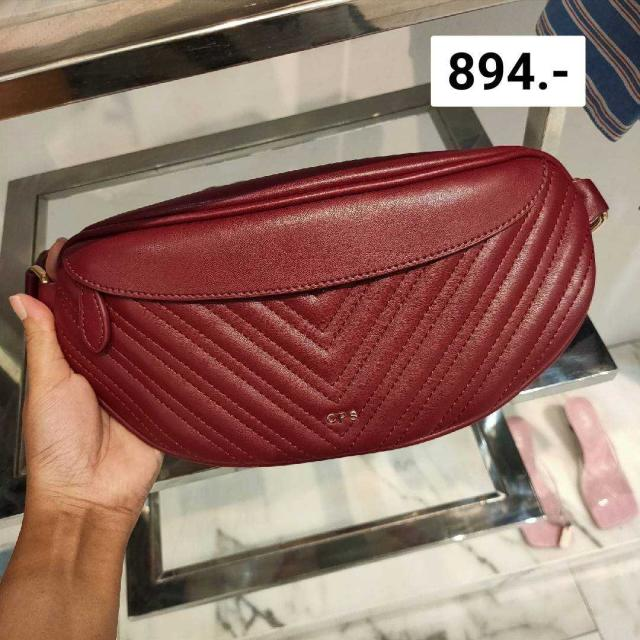bag: (0, 97, 640, 470)
